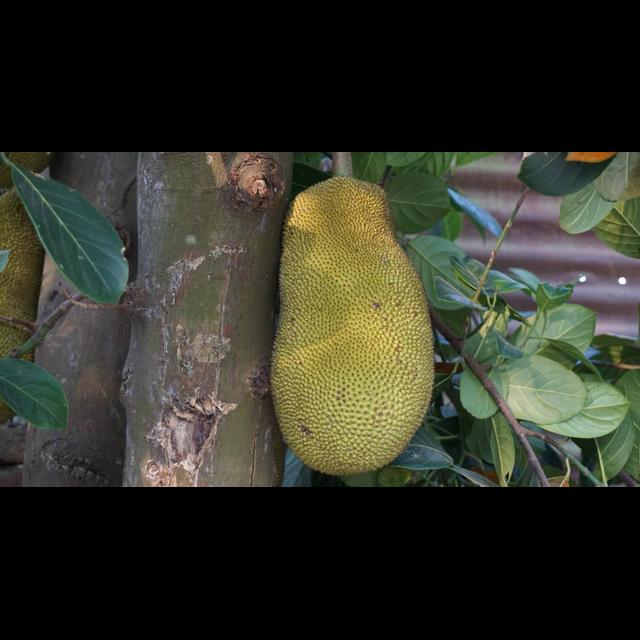mit: (274, 177, 434, 477)
